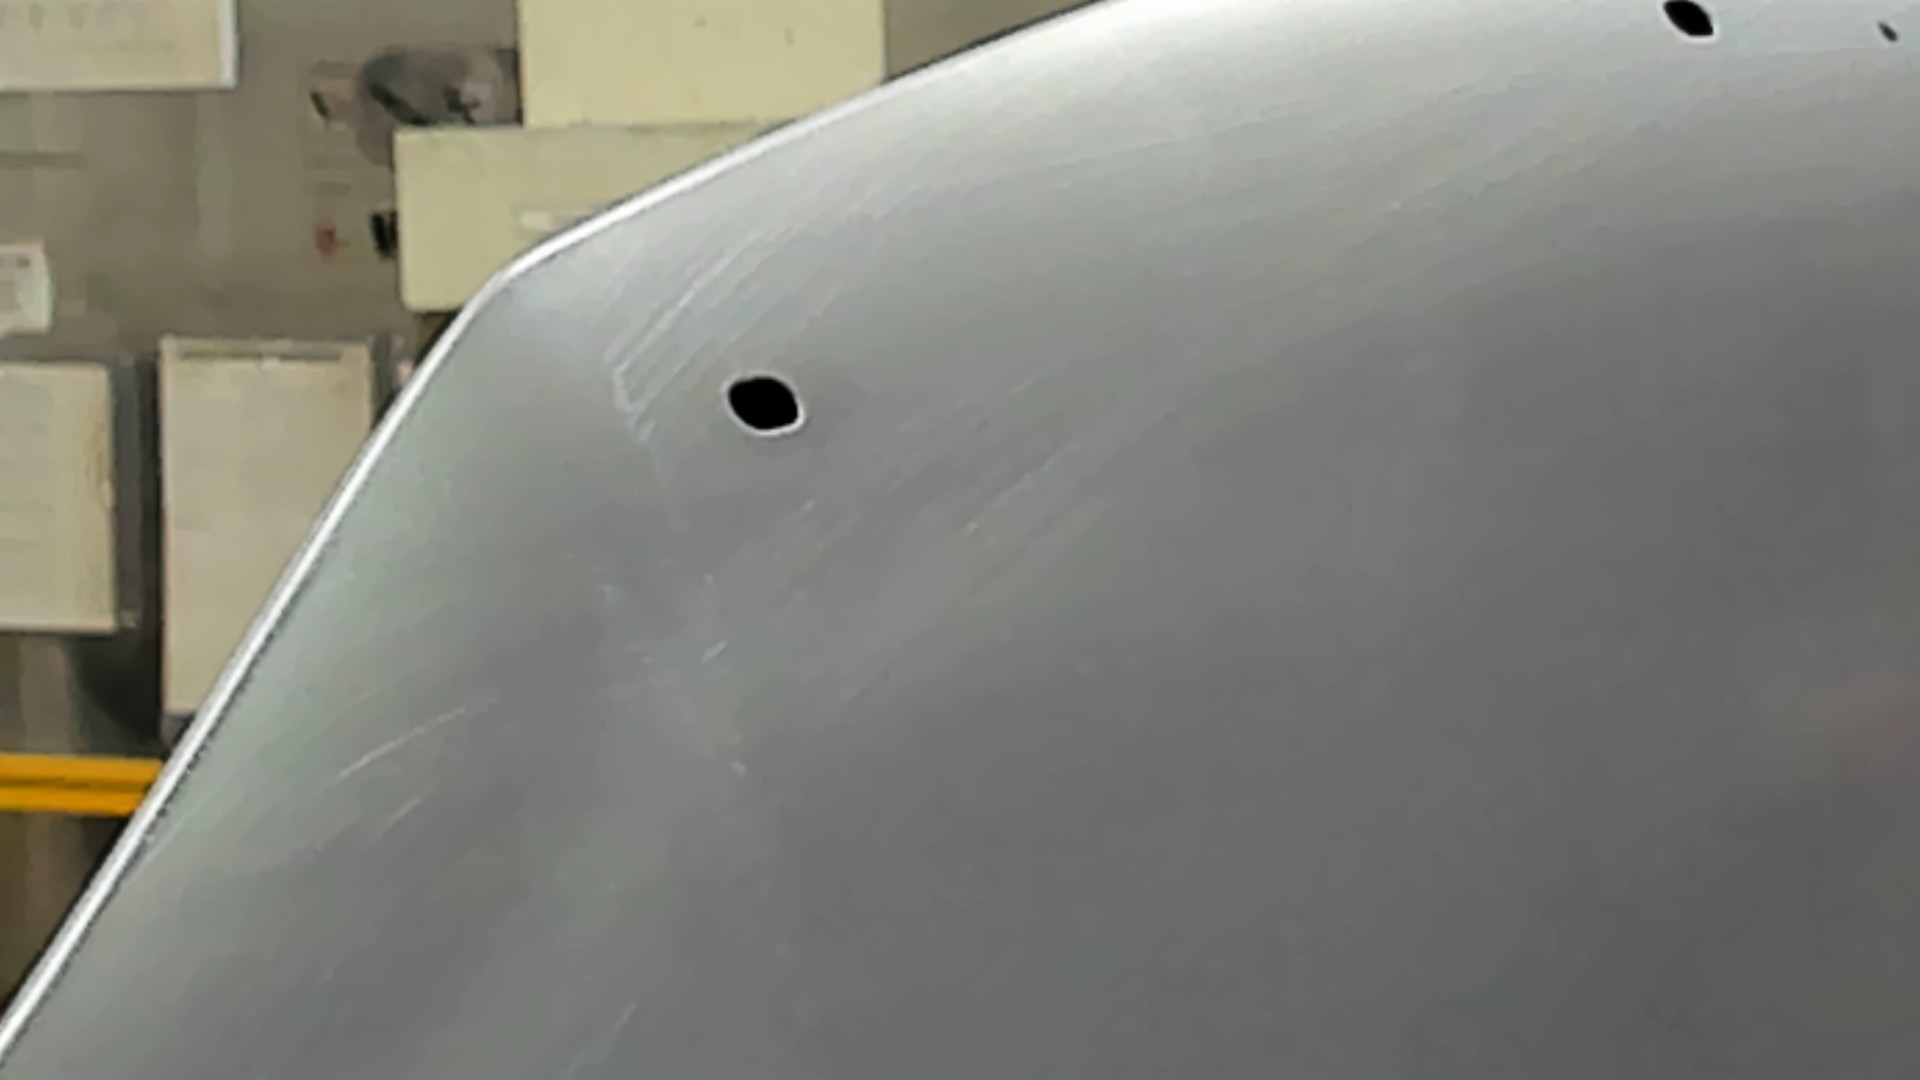amorfo: (721, 368, 807, 444), (1652, 1, 1727, 50)
capo: (920, 100, 1920, 1080)
